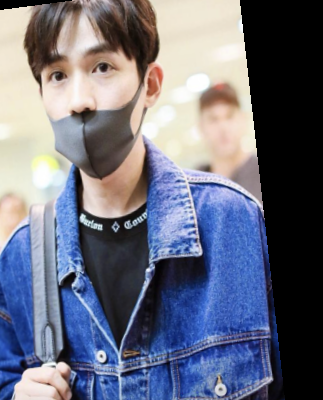mask_weared_incorrect: (13, 5, 184, 184)
